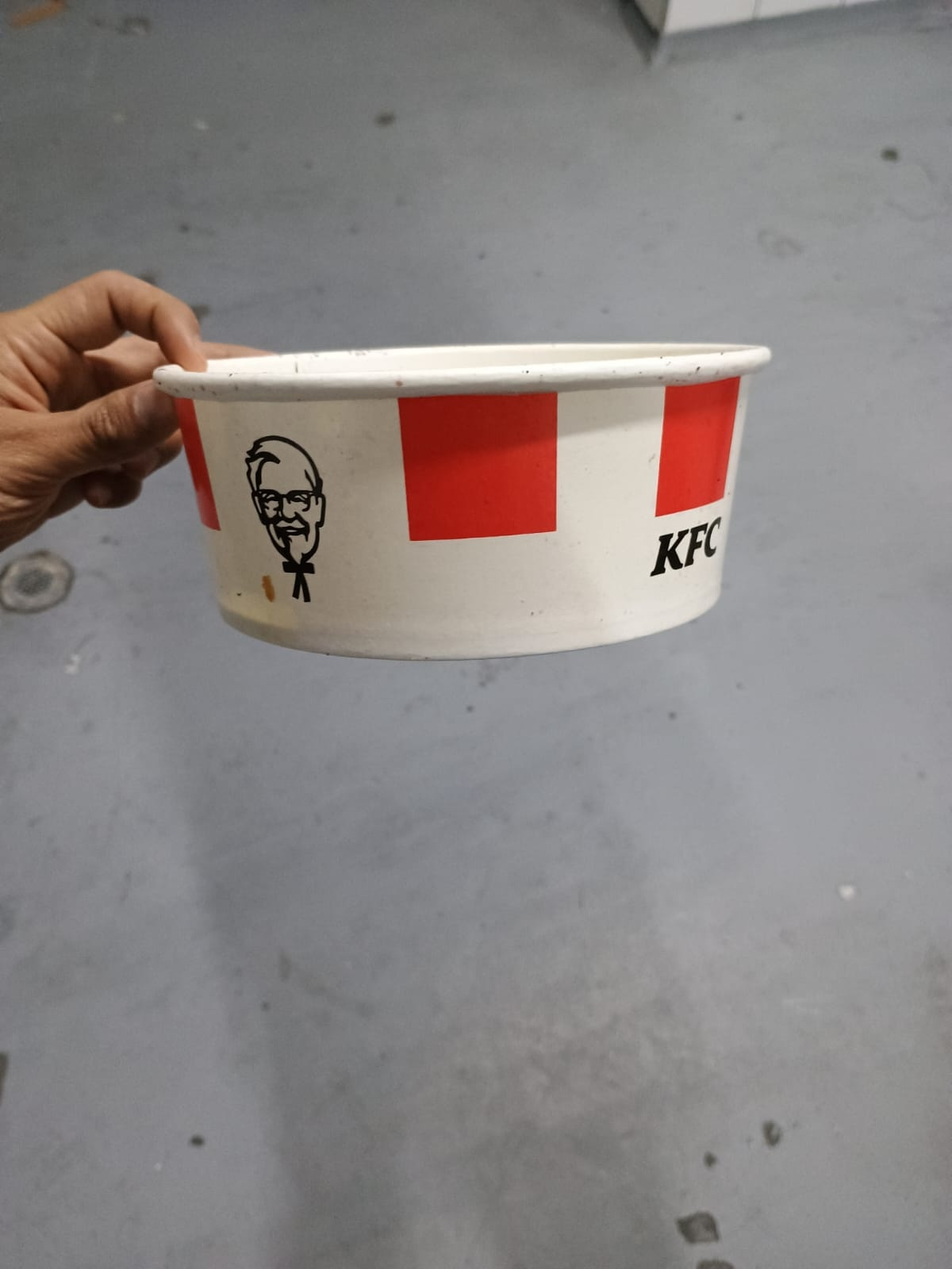Carton: (149, 342, 772, 664)
